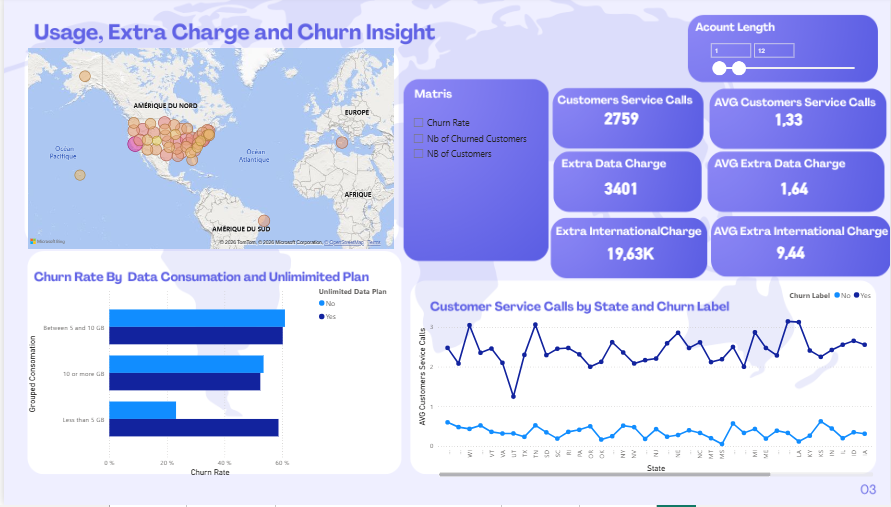

What the dashboard file says about the page in this screenshot:
{"tool":"powerbi","page":{"name":"Usage,Extra Charge and Churn Insghit","canvas":[1640,940],"ordinal":3},"visuals":[{"type":"card","fields":{"Values":["Mesure.AVG Extrat Data Charges"]},"box":[1350,311.7,221.7,85],"z":0},{"type":"card","fields":{"Values":["Mesure.AVG Extrat Data Inetrnational"]},"box":[1315,396.7,280,150],"z":1000},{"type":"lineChart","fields":{"Y":["Mesure.AVG Customers Sevice Calls"],"Category":["Databel - Data.State"],"Series":["Databel - Data.Churn Label"]},"box":[760,531.7,853.3,361.7],"z":2000},{"type":"map","fields":{"Size":["Mesure.Churn Rate"],"Category":["Databel - Data.State"],"Y":["Mesure.Churn Rate"]},"box":[38.9,88.8,688.3,383],"z":3000},{"type":"slicer","fields":{"Values":["Databel - Data.Account Length (in months)"]},"box":[1295,75,300,105],"z":4000},{"type":"clusteredBarChart","fields":{"Category":["Databel - Data.Grouped Consomation"],"Y":["Mesure.Churn Rate"],"Series":["Databel - Data.Unlimited Data Plan"]},"box":[38.3,531.7,688.3,361.7],"z":5000},{"type":"card","fields":{"Values":["Sum(Databel - Data.Extra Data Charges)"]},"box":[1033.3,311.7,220,81.7],"z":6000},{"type":"card","fields":{"Values":["Sum(Databel - Data.Extra International Charges)"]},"box":[1033.3,376.7,251.7,190],"z":7000},{"type":"card","fields":{"Values":["Sum(Databel - Data.Customer Service Calls)"]},"box":[1058.3,180,168.3,88.3],"z":8000},{"type":"card","fields":{"Values":["Mesure.AVG Customers Sevice Calls"]},"box":[1350,170,201.7,108.3],"z":9000},{"type":"slicer","fields":{"Values":["Matrice.Matrice"]},"box":[745,213.3,248.3,225],"z":10000},{"type":"actionButton","box":[1540.5,892.9,100,40.5],"z":10001}]}

Visuals, with their boxes in screenshot pixels (x1, y1, x2, y2), scaled from the page's 1640x940 canvas onto the 891x507 screenshot:
card - Mesure.AVG Extrat Data Charges: bbox=(733, 168, 854, 214)
card - Mesure.AVG Extrat Data Inetrnational: bbox=(714, 214, 867, 295)
lineChart - Mesure.AVG Customers Sevice Calls x Databel - Data.State: bbox=(413, 287, 876, 482)
map - Mesure.Churn Rate x Databel - Data.State: bbox=(21, 48, 395, 254)
slicer - Databel - Data.Account Length (in months): bbox=(704, 40, 867, 97)
clusteredBarChart - Databel - Data.Grouped Consomation x Mesure.Churn Rate: bbox=(21, 287, 395, 482)
card - Sum(Databel - Data.Extra Data Charges): bbox=(561, 168, 681, 212)
card - Sum(Databel - Data.Extra International Charges): bbox=(561, 203, 698, 306)
card - Sum(Databel - Data.Customer Service Calls): bbox=(575, 97, 666, 145)
card - Mesure.AVG Customers Sevice Calls: bbox=(733, 92, 843, 150)
slicer - Matrice.Matrice: bbox=(405, 115, 540, 236)
actionButton: bbox=(837, 482, 890, 503)
